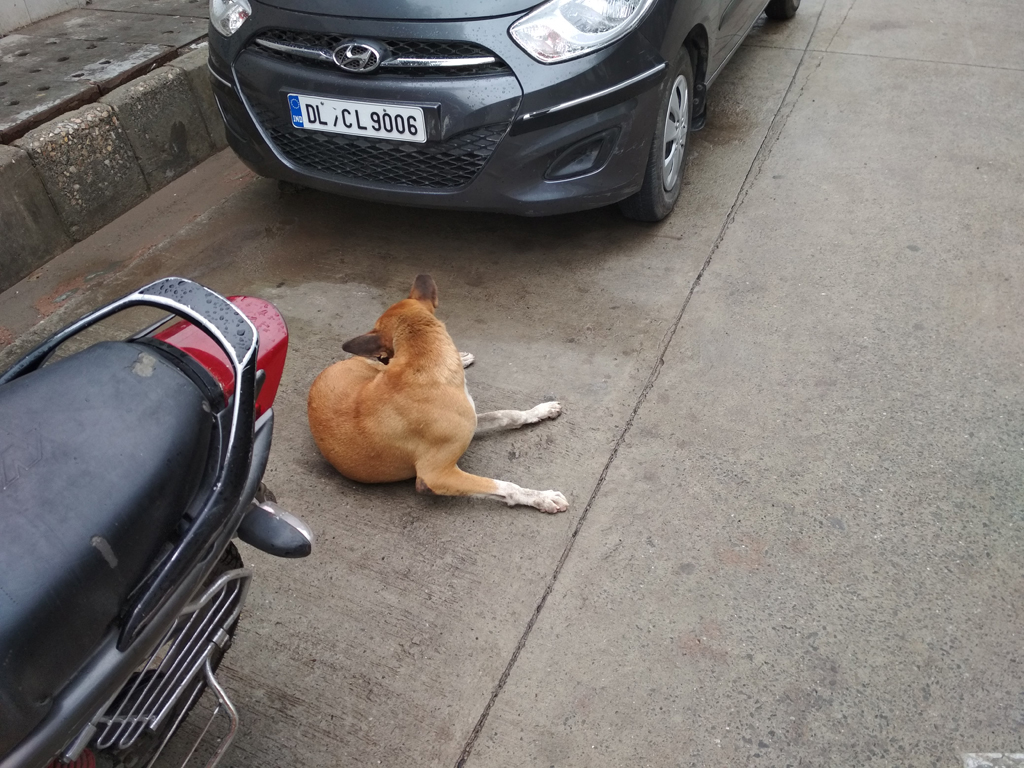dog: (307, 275, 565, 516)
